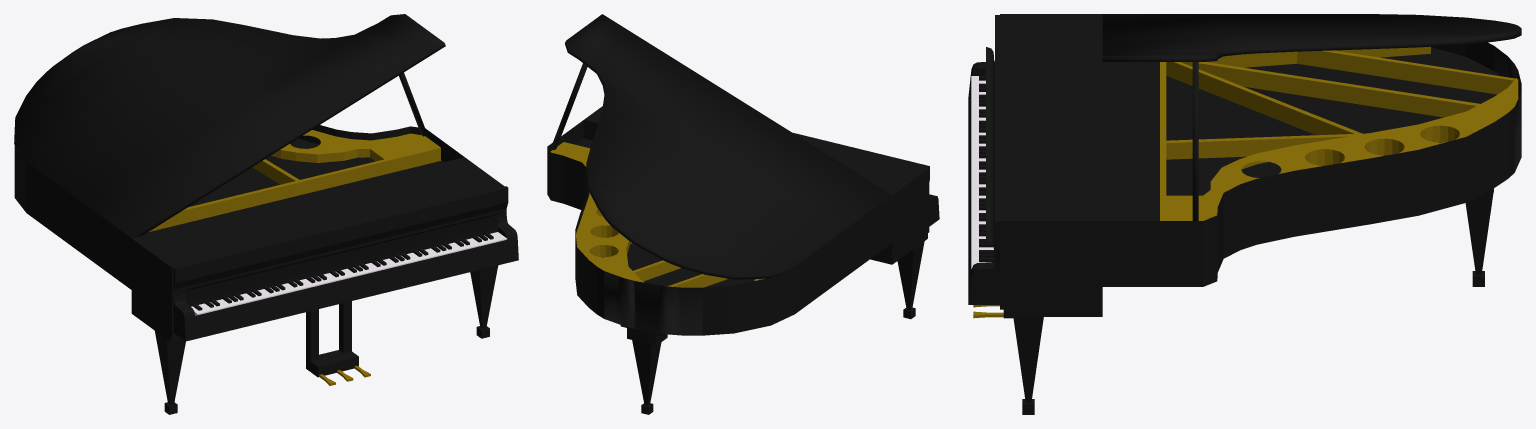
The model's file is piano.glb.
3 views of the same model, side by side, from view 1: azimuth 30°, elevation 25°; view 2: azimuth 150°, elevation 25°; view 3: azimuth 270°, elevation 25° (orthographic). The views are drawn at different scales.
Parts seen in each view (by area): view 1: Cube.008; view 2: Cube.008; view 3: Cube.008.
Boxes of the visible parts, <box> form: Cube.008: <box>14,14,518,414</box>; Cube.008: <box>547,14,939,414</box>; Cube.008: <box>968,14,1521,414</box>.
Size of the model in its own units: 1.32 by 1.03 by 1.48.
